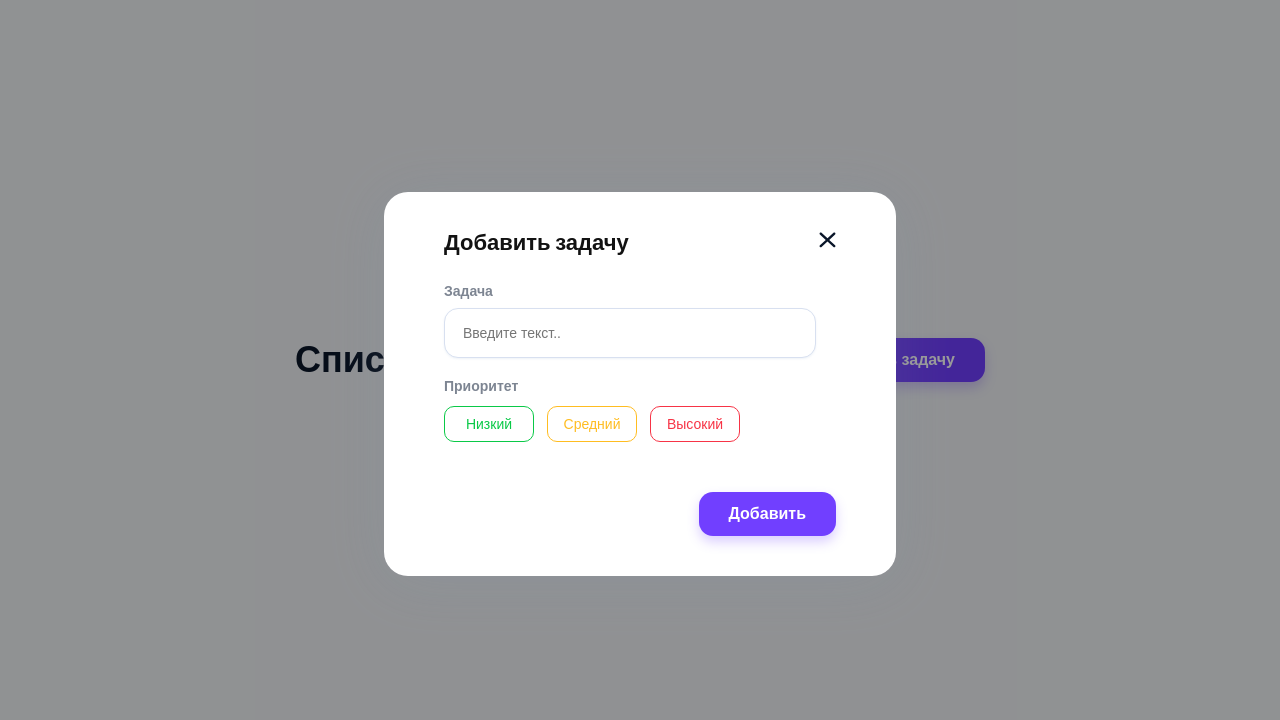
Test case: Тесты функционала самого списка задач › При отправке формы новая задача должна добавляться в список задач
Type "Новая тестовая задача" into the field with placeholder "Введите текст.." at (630, 333), box [444,308,816,358]
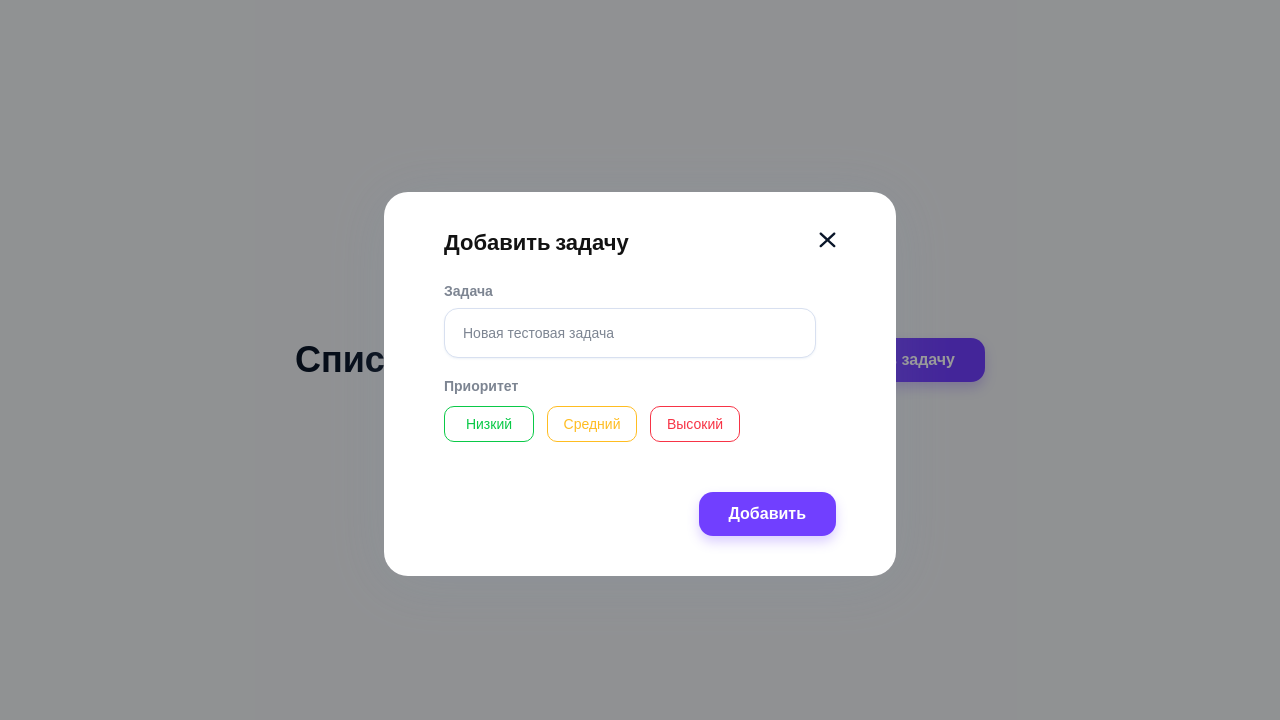
Click the list item "Низкий" at (489, 424), box [444,406,534,442]
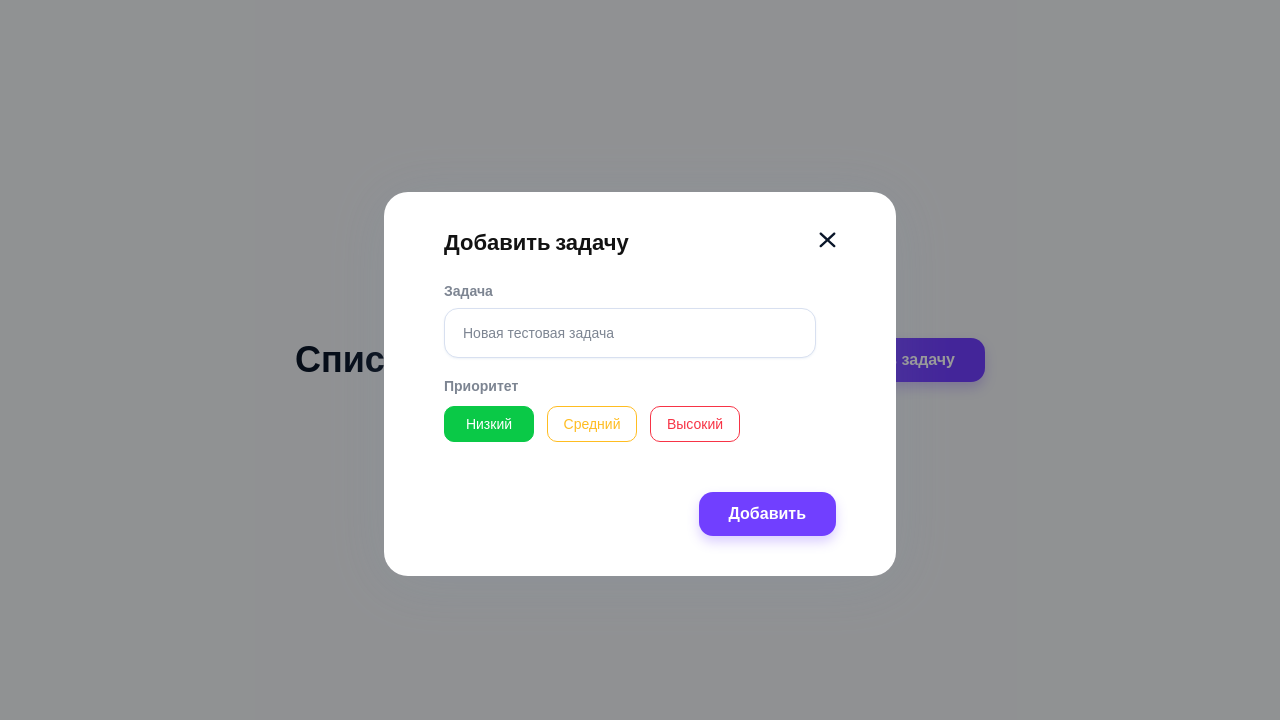
Click the button with test id "add-task-btn" at (767, 514), box [698,492,836,536]
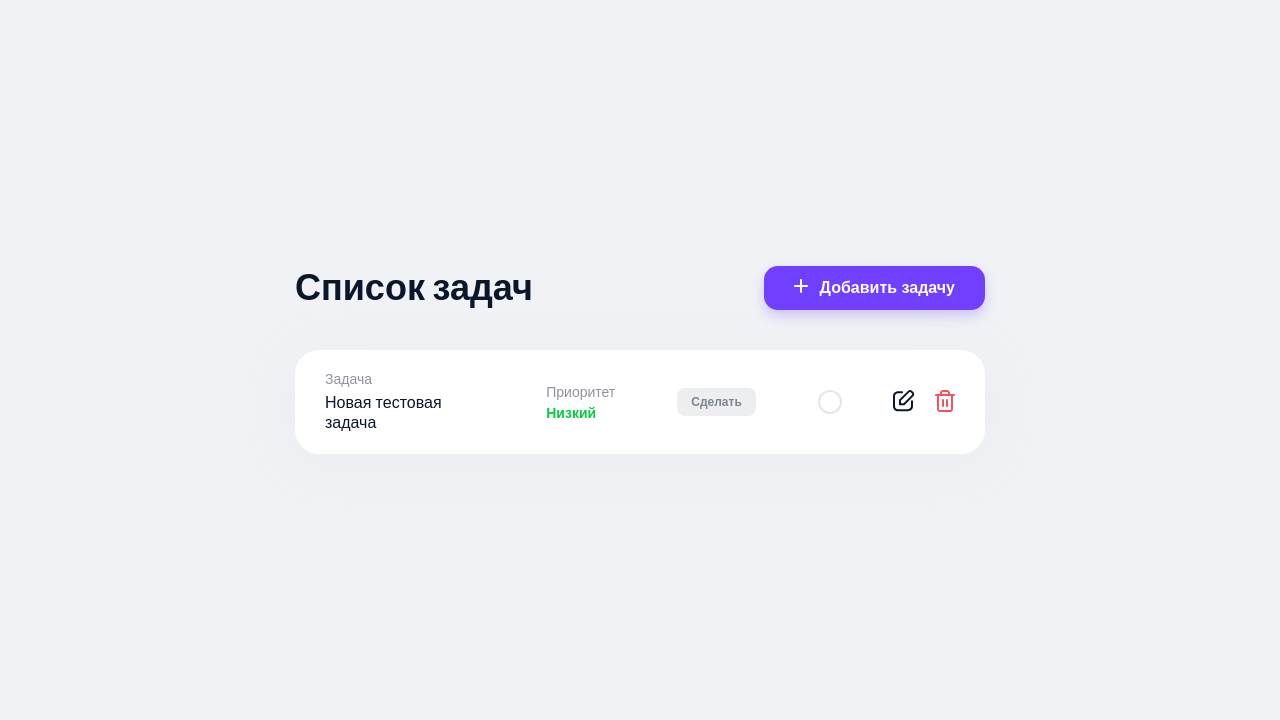
Expected: the text "Новая тестовая задача" is shown, [325,391,442,434]
